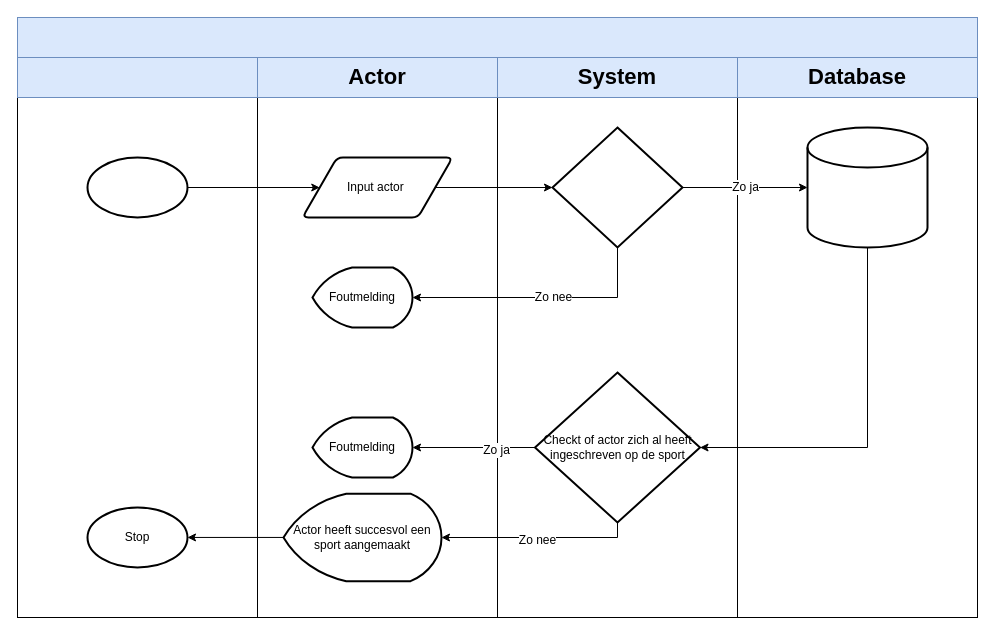
This 995x635 diagram has some shape labels left out. Here are the shapes that lost their labels. From the top down, the box of each, then its label:
(16, 16, 978, 58): Inschrijven sport
(86, 156, 188, 218): Start
(551, 126, 683, 248): Checkt of velden zijn ingevuld
(806, 126, 928, 248): Slaat gegevens op
